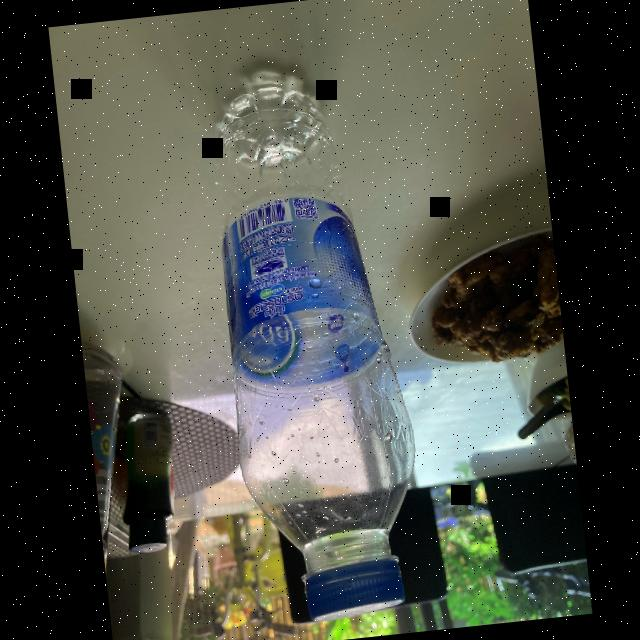plastic_bottle: (196, 61, 436, 628)
